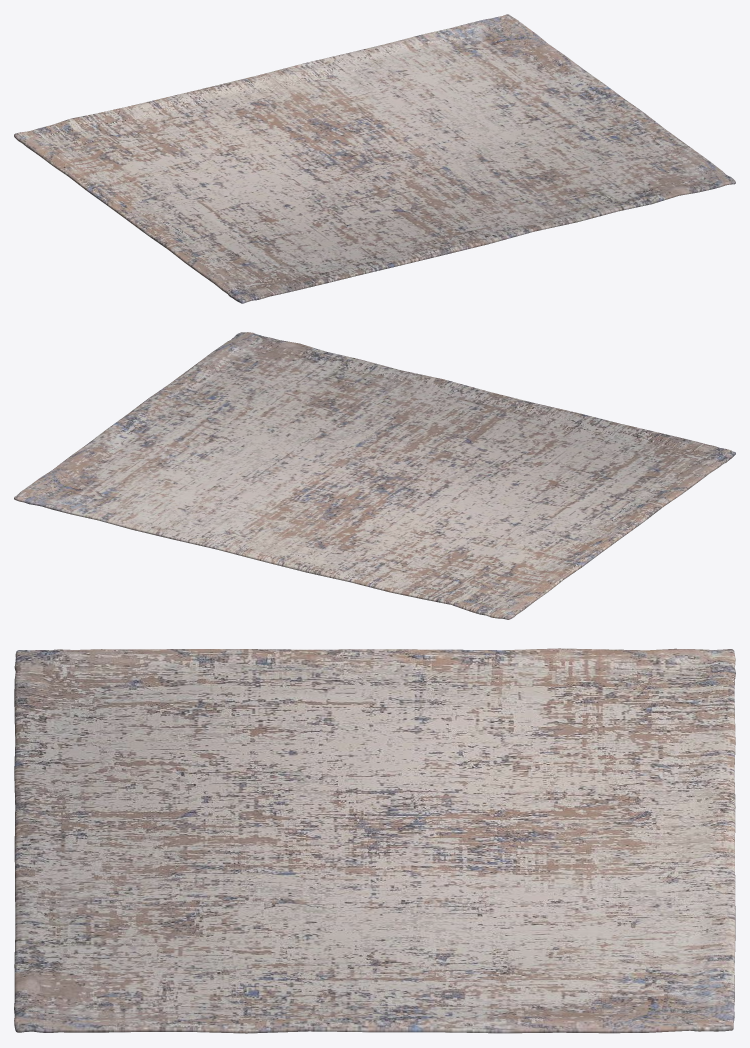
Rendered from rug.glb.
The picture shows the model from 3 angles, top to bottom: view 1: azimuth 30°, elevation 25°; view 2: azimuth 150°, elevation 25°; view 3: azimuth 270°, elevation 25°; orthographic projection. The views are drawn at different scales.
Visible parts, largest first — view 1: Geom3D; view 2: Geom3D; view 3: Geom3D.
Boxes of the visible parts, <box> form: Geom3D: <box>14,14,735,303</box>; Geom3D: <box>14,332,735,619</box>; Geom3D: <box>14,648,735,1033</box>.
Bounding box in the file's own units: 2.5 × 0.0286 × 2.
1 material, 1 textured.
